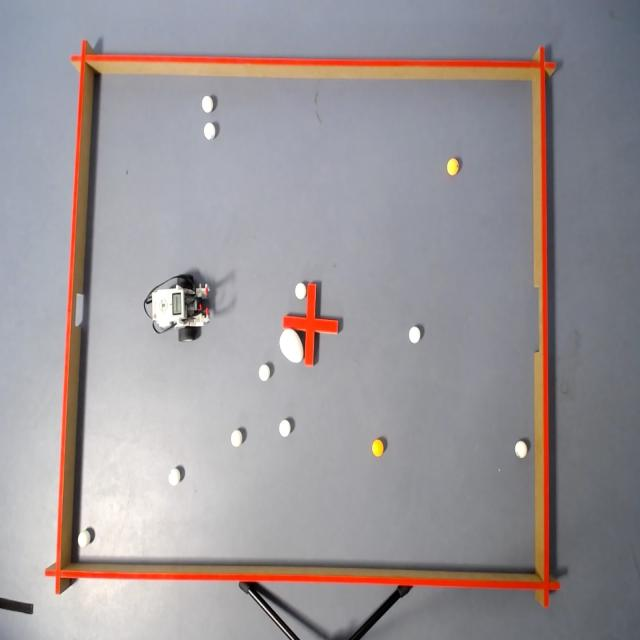boundaries: (44, 39, 561, 610), (72, 73, 540, 572)
cross: (282, 283, 339, 368)
egg: (279, 328, 304, 365)
large_goal: (532, 284, 547, 360)
orange_ball: (446, 158, 461, 176), (372, 439, 384, 458)
robot: (144, 273, 212, 344)
small_goal: (68, 283, 86, 337)
white_ball: (514, 440, 528, 460), (408, 325, 422, 345), (203, 120, 216, 141), (278, 419, 292, 438), (230, 430, 244, 448), (168, 468, 181, 487), (258, 363, 271, 382), (201, 94, 214, 113), (295, 280, 307, 300), (78, 530, 91, 548)
